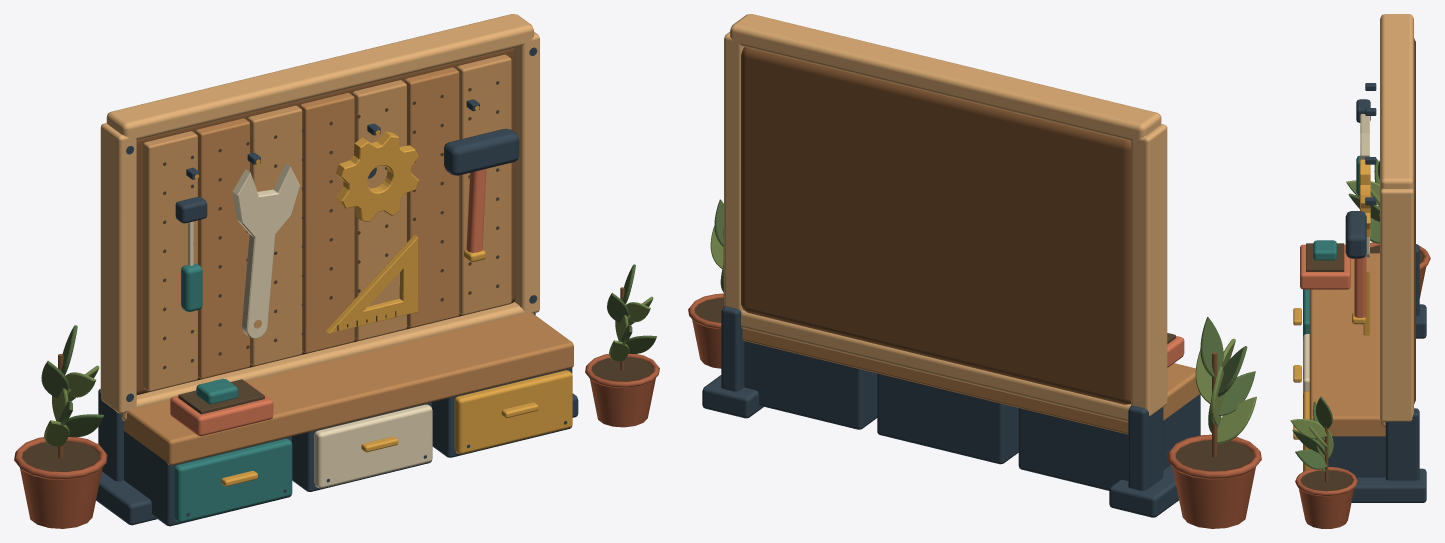
Rendered from workshop-tool-rack-light.glb.
3 views of the same model, side by side, from view 1: azimuth 30°, elevation 25°; view 2: azimuth 150°, elevation 25°; view 3: azimuth 270°, elevation 25° (orthographic). The views are drawn at different scales.
Parts seen in each view (by area): view 1: timber, plank, edge, brass, navy, cream, teal, pot, darkWood, coral, leaf, soil (+2 smaller); view 2: darkWood, edge, navy, pot, timber, leaf, leafLight, soil; view 3: edge, timber, navy, pot, coral, leaf, brass, leafLight, teal, soil, darkWood, cream (+1 smaller).
Part boxes in pixels (box(x1,y1,x2,y2)): timber: box(124, 67, 573, 465); plank: box(143, 54, 511, 391); edge: box(100, 14, 539, 420); brass: box(194, 106, 572, 486); navy: box(96, 47, 578, 526); cream: box(188, 163, 432, 488); teal: box(174, 263, 292, 522); pot: box(14, 353, 659, 528); darkWood: box(58, 48, 624, 458); coral: box(170, 169, 486, 436); leaf: box(41, 264, 656, 437); soil: box(22, 357, 653, 471); darkWood: box(723, 47, 1217, 457); edge: box(724, 14, 1167, 422); navy: box(702, 306, 1200, 517); pot: box(688, 293, 1261, 528); timber: box(742, 328, 1200, 434); leaf: box(714, 199, 1255, 432); leafLight: box(710, 226, 1256, 443); soil: box(694, 298, 1253, 471); edge: box(1380, 14, 1413, 427); timber: box(1309, 253, 1385, 436); navy: box(1315, 83, 1426, 502); pot: box(1295, 242, 1430, 528); coral: box(1300, 244, 1366, 317); leaf: box(1292, 159, 1379, 469); brass: box(1293, 159, 1370, 471); leafLight: box(1290, 180, 1379, 472); teal: box(1303, 155, 1360, 336); soil: box(1300, 245, 1423, 490); darkWood: box(1324, 38, 1415, 481); cream: box(1303, 114, 1369, 393).
Size of the model in its own units: 2.04 by 1.25 by 0.4994.
